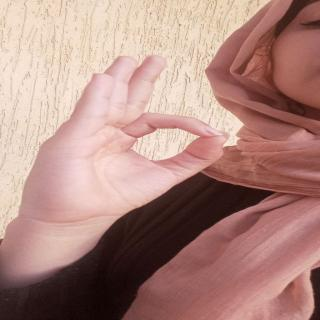Space: (28, 50, 235, 219)
